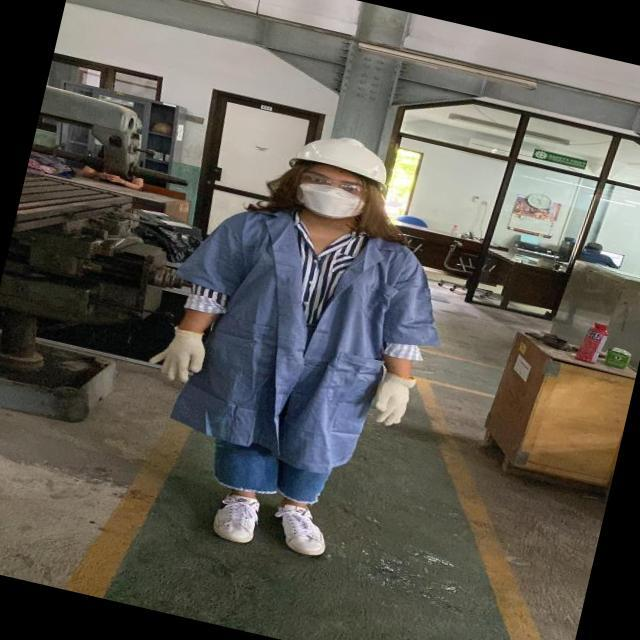Gloves: (148, 320, 212, 391), (363, 366, 423, 434)
Helmet: (299, 128, 412, 195)
Person: (142, 110, 447, 583)
Safety Boot: (204, 487, 333, 562)
no-vest: (165, 204, 441, 479)
